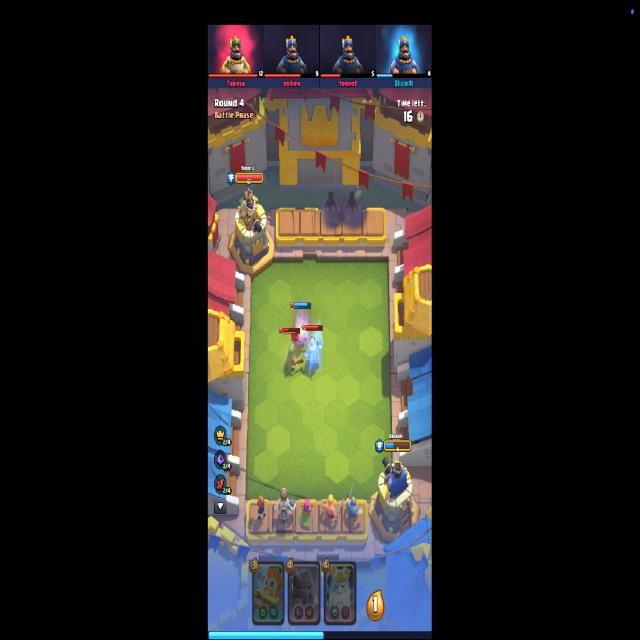archer: (300, 500, 314, 529)
bandit: (284, 345, 306, 375)
barbarian: (320, 493, 346, 524)
card_dart_goblin: (252, 557, 284, 627)
card_mega_knight: (288, 560, 320, 627)
card_royal_ghost: (324, 561, 356, 626)
giant_skeleton: (274, 488, 297, 529)
knight: (346, 482, 363, 528)
royal_ghost: (303, 338, 325, 366)
valkyrie: (250, 496, 267, 521)
